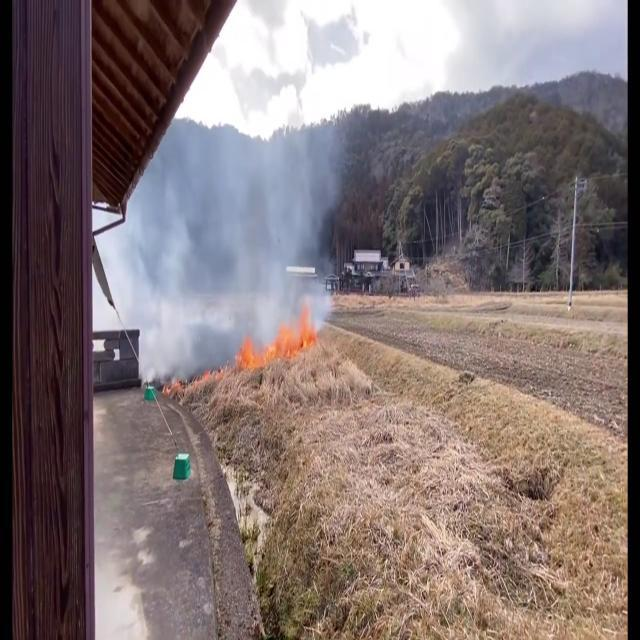Fire: (236, 301, 318, 375)
Smoke: (103, 67, 343, 394)
